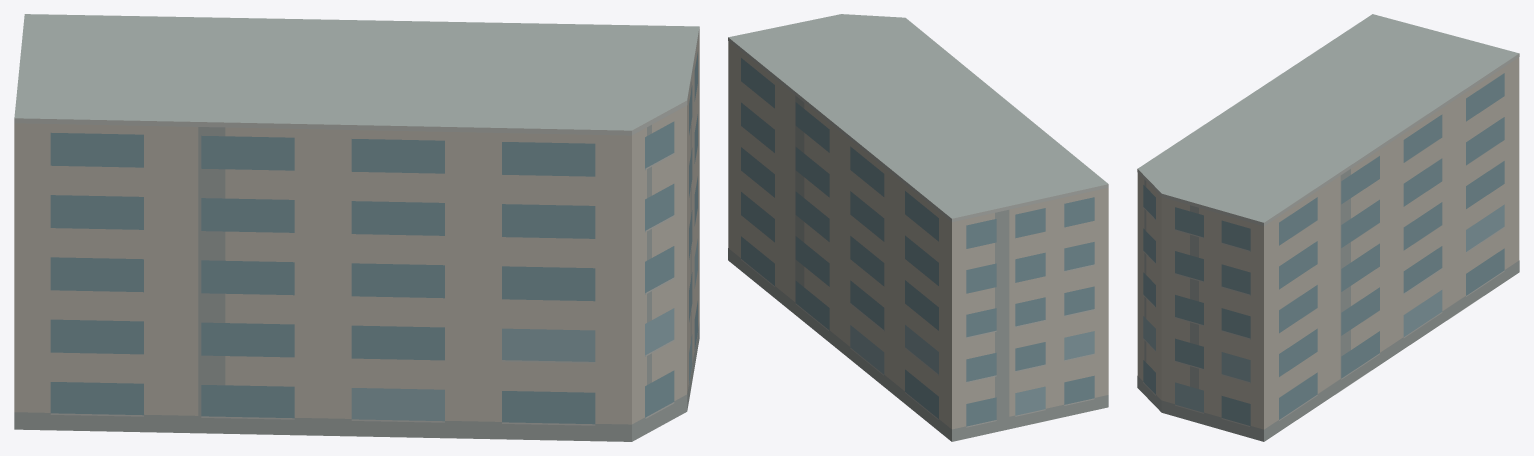
Rendered from survey-upis-32736907.glb.
3 views of the same model, side by side, from view 1: azimuth 30°, elevation 25°; view 2: azimuth 150°, elevation 25°; view 3: azimuth 270°, elevation 25° (orthographic). The views are drawn at different scales.
Parts seen in each view (by area): view 1: survey-upis-32736907.tmp; view 2: survey-upis-32736907.tmp; view 3: survey-upis-32736907.tmp.
Boxes of the visible parts, box(x1,y1,x2,y2) form: survey-upis-32736907.tmp: box(14, 14, 699, 441); survey-upis-32736907.tmp: box(728, 14, 1108, 441); survey-upis-32736907.tmp: box(1137, 14, 1519, 441).
Bounding box in the file's own units: 31.18 × 15.25 × 24.1.
